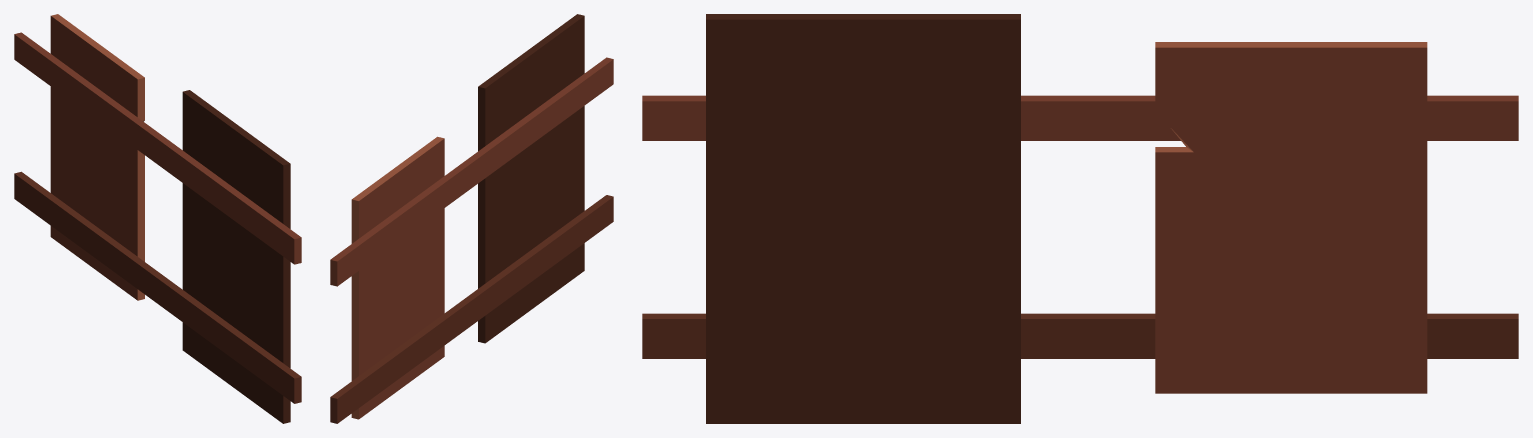
Rendered from SM_Barriers_15.fbx.
3 views of the same model, side by side, from view 1: azimuth 30°, elevation 25°; view 2: azimuth 150°, elevation 25°; view 3: azimuth 270°, elevation 25° (orthographic). The views are drawn at different scales.
Parts seen in each view (by area): view 1: SM_Barriers_15; view 2: SM_Barriers_15; view 3: SM_Barriers_15.
Boxes of the visible parts, bbox=[...] form: SM_Barriers_15: bbox=[14, 14, 301, 423]; SM_Barriers_15: bbox=[330, 14, 613, 423]; SM_Barriers_15: bbox=[642, 14, 1518, 423].
Bounding box in the file's own units: 6.78 × 102 × 200.
